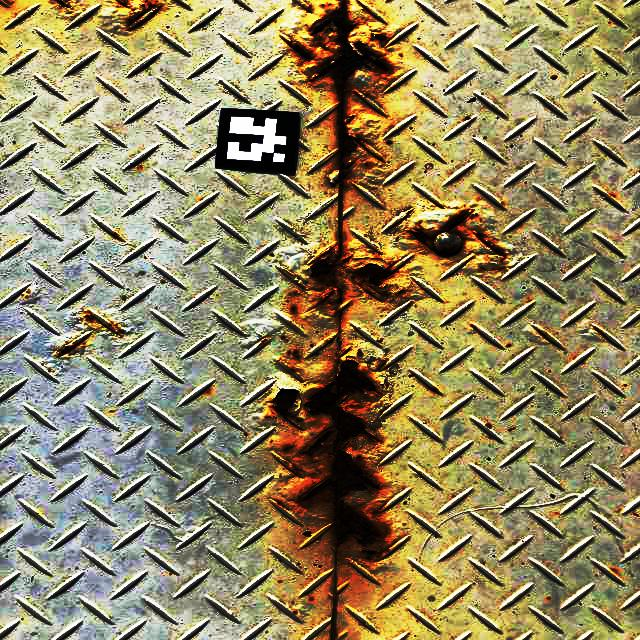Corrosion: (298, 360, 383, 547), (310, 0, 392, 133), (310, 246, 414, 300), (407, 208, 506, 259), (273, 389, 303, 430), (122, 0, 160, 31), (340, 134, 365, 179), (315, 291, 347, 313), (355, 541, 386, 562), (283, 37, 312, 59), (56, 339, 77, 356), (372, 31, 388, 43), (117, 0, 132, 10), (288, 349, 301, 360), (396, 288, 410, 296), (83, 311, 94, 321), (55, 0, 68, 8), (289, 306, 297, 315), (288, 368, 296, 372)
